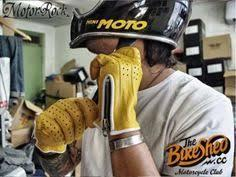gloves: (89, 47, 143, 132), (34, 97, 99, 155)
